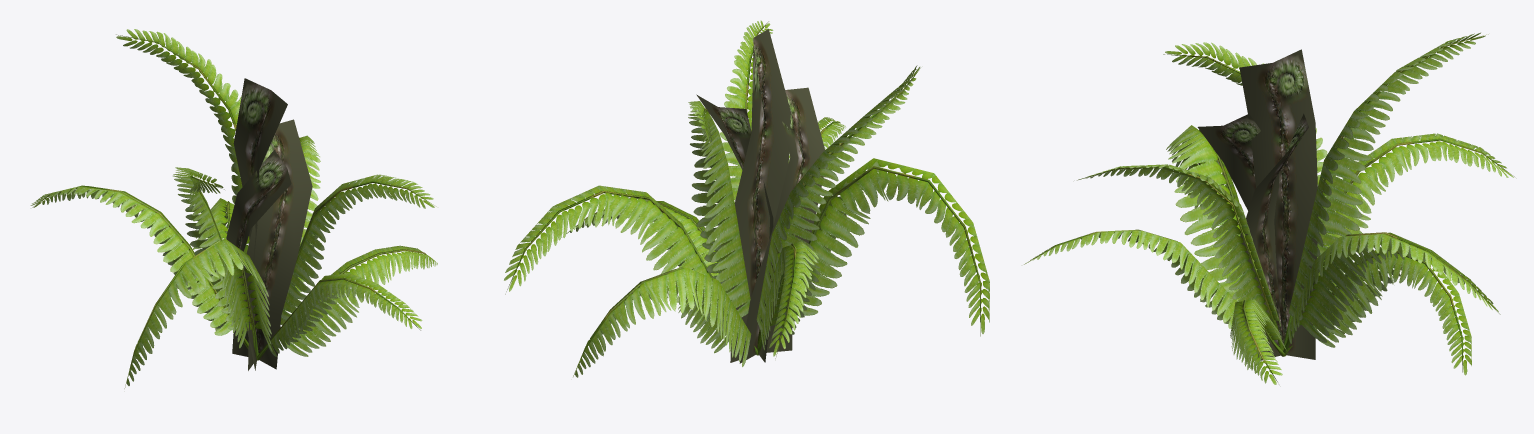
File: Boston_Fern_LowPoly.fbx
3 renders of one model, left to right at view 1: azimuth 30°, elevation 25°; view 2: azimuth 150°, elevation 25°; view 3: azimuth 270°, elevation 25°, orthographic. The views are drawn at different scales.
Visible parts, largest first — view 1: Boston_Fern_Mobile_11; view 2: Boston_Fern_Mobile_11; view 3: Boston_Fern_Mobile_11.
Boxes of the visible parts, x1,y1,x2,y2 form: Boston_Fern_Mobile_11: [30, 29, 437, 388]; Boston_Fern_Mobile_11: [504, 20, 989, 377]; Boston_Fern_Mobile_11: [1024, 32, 1514, 384].
Size of the model in its own units: 0.3666 by 0.2934 by 0.4174.
Materials: 3 (3 with a texture image).
